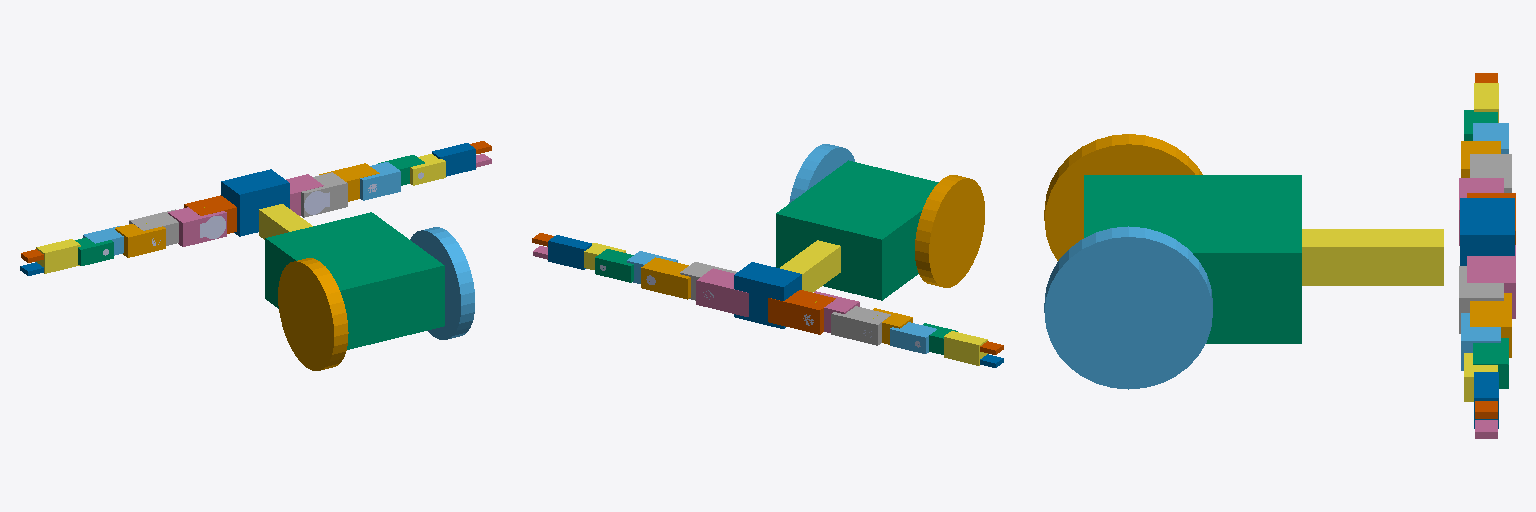
robot.urdf — Krang:
<?xml version="1.0" ?>
<!-- @file Krang.urdf -->
<!-- @author [author] -->
<!-- @modified by [author] -->
<!-- @date July, 2018 -->
<!-- @brief This file contains the .urdf definition for Krang. -->

<!-- NOTE: The collision box values are taken by finding the min and max values of the dae files and then tweaked based on the model to minimize excess white space. -->

<!-- NOTE: The center of mass locations are taken from the MassTable by summing up the -->
<!-- individual part values for the sections (which correspond to nodes here). -->
<!-- TODO: Set the center of mass locations -->
<!-- TODO: Set the correct masses. Note that the dae models have the brackets divided in two and -->
<!-- connected to the middle motor for which we do not have measurements. -->

<robot name="Krang">

	<!-- Links -->

	<link name = "LWheel">
        <inertial>
            <mass value="4.66"/>
            <inertia ixx="0.102019" ixy="2.45462e-05" ixz="0.00713022" iyy="0.0832724" iyz="-0.00131733" izz="0.086493"/>
            <origin xyz="0 0 0"/>
        </inertial>
	    <visual> <geometry> <mesh filename="../scenes/Base/newwheel_super_res.dae" /> </geometry> </visual>
	    <!--collision> <geometry> <mesh filename="../scenes/Base/newwheel_super_res.dae" /> </geometry> </collision-->
        <visual> <origin xyz="0 0 0" rpy="0 1.5708 0"/> <geometry> <cylinder length="0.08" radius="0.275"/> </geometry> </visual>
        <collision> <origin xyz="0 0 0" rpy="0 1.5708 0"/> <geometry> <cylinder length="0.08" radius="0.275"/> </geometry> </collision>
	    <soft_shape>
            <total_mass>4.66</total_mass>
            <geometry> <mesh filename="../scenes/Base/newwheel_super_res.dae" /> </geometry>
	    	<kv>500.0</kv>
	    	<ke>0.0</ke>
	    	<damp>5.0</damp>
        </soft_shape>
	</link>

	<link name = "RWheel">
        <inertial>
            <mass value="4.66"/>
            <inertia ixx="0.102019" ixy="2.45462e-05" ixz="0.00713022" iyy="0.0832724" iyz="-0.00131733" izz="0.086493"/>
        <origin xyz="0 0 0"/>
        </inertial>
	    <visual> <geometry> <mesh filename="../scenes/Base/newwheel_super_res.dae" /> </geometry> </visual>
	    <!--collision> <geometry> <mesh filename="../scenes/Base/newwheel_super_res.dae" /> </geometry> </collision-->
        <visual> <origin xyz="0 0 0" rpy="0 1.5708 0"/> <geometry> <cylinder length="0.08" radius="0.275"/> </geometry> </visual>
        <collision> <origin xyz="0 0 0" rpy="0 1.5708 0"/> <geometry> <cylinder length="0.08" radius="0.275"/> </geometry> </collision>
	    <soft_shape>
            <total_mass>4.66</total_mass>
            <geometry> <mesh filename="../scenes/Base/newwheel_super_res.dae" /> </geometry>
	        <kv>500.0</kv>
	        <ke>0.0</ke>
	        <damp>5.0</damp>
        </soft_shape>
	</link>

<!-- Finalized Inertial Parameters for Krang Base, Spine and Bracket -->

	<link name = "Base">
        <inertial>
            <mass value="75.767"/>
            <inertia ixx="2.9427" ixy="0.0001" ixz="0.0037" iyy="2.4034" iyz="-0.0113" izz="1.2335"/>
            <origin xyz="-0.000628 0.001940 0.076721"/>
            <!-- <origin xyz="-0.1 0.1 0.1"/> -->
        </inertial>
		<visual> <geometry> <mesh filename="../scenes/base.dae" /> </geometry> </visual>
		<!--collision> <geometry> <mesh filename="../scenes/base.dae" /> </geometry> </collision-->
		<visual> <origin xyz="0.00225 0.2097395 0.006300"/> <geometry> <box size="0.6 0.71048 0.32860"/> </geometry> </visual>
		<collision> <origin xyz="0.00225 0.2097395 0.006300"/> <geometry> <box size="0.6 0.71048 0.32860"/> </geometry> </collision>
	</link>

	<link name = "Spine">
        <inertial>
            <mass value="14.006"/>
            <inertia ixx="0.5601" ixy="0.0003" ixz="0.1548" iyy="0.53" iyz="-0.006" izz="0.2328"/>
            <origin xyz="-0.051222 0.000345 0.080526"/>
            <!-- <origin xyz="-0.1 0.1 0.1"/> -->
        </inertial>
		<visual> <geometry> <mesh filename="../scenes/spine.dae" /> </geometry> </visual>
		<!--collision> <geometry> <mesh filename="../scenes/spine.dae" /> </geometry> </collision -->
		<visual> <origin xyz="-0.026 0.230000 0.103887"/> <geometry> <box size="0.1340 0.60000 0.14097"/> </geometry> </visual>
		<collision> <origin xyz="-0.026 0.230000 0.103887"/> <geometry> <box size="0.1340 0.60000 0.14097"/> </geometry> </collision>
	</link>

	<link name = "Bracket">
        <inertial>
            <mass value="6.533"/>
            <inertia ixx="0.1003" ixy="0" ixz="0" iyy="0.0214" iyz="0" izz="0.0987"/>
            <origin xyz="0.0 0.076445 -0.005972"/>
            <!-- <origin xyz="-0.1 0.1 0.1"/> -->
        </inertial>
		<visual> <geometry> <mesh filename="../scenes/bracket.dae" /> </geometry> </visual>
		<!--collision> <geometry> <mesh filename="../scenes/bracket.dae" /> </geometry> </collision-->
		<visual> <origin xyz="0.0012875 0.0882 -0.0280530"/> <geometry> <box size="0.2815 0.18 0.22611"/> </geometry> </visual>
		<collision> <origin xyz="0.0012875 0.0882 -0.0280530"/> <geometry> <box size="0.2815 0.18 0.22611"/> </geometry> </collision>
	</link>

	<link name = "L1">
	    <inertial>
	        <mass value="7.35"/>
	        <inertia ixx="0.0381" ixy="0.0104" ixz="0" iyy="0.0187" iyz="0" izz="0.0430"/>
	        <origin xyz="0.0217 -0.0691 0"/>
	    </inertial>
	    <visual> <geometry> <mesh filename="../scenes/Schunk/L1.dae" /> </geometry> </visual>
	    <!--collision> <geometry> <mesh filename="../scenes/Schunk/L1.dae" /> </geometry> </collision-->
	    <visual> <origin xyz="0.015 -0.080866 0.0"/> <geometry> <box size="0.16 0.29367 0.13188"/> </geometry> </visual>
        <collision> <origin xyz="0.015 -0.080866 0.0"/> <geometry> <box size="0.16 0.29367 0.13188"/> </geometry> </collision>
	</link>

	<link name = "L2">
        <inertial>
            <mass value="6.1405"/>
            <!-- <inertia ixx="0.0504" ixy="0.0006" ixz="0" iyy="0.0178" iyz="0" izz="0.0579"/> -->
	        <inertia ixx="0.0320" ixy="0.0097" ixz="0" iyy="0.0134" iyz="0" izz="0.0350"/>
            <origin xyz="0.0269 -0.0548 0"/>
        </inertial>
		<visual> <geometry> <mesh filename="../scenes/Schunk/L2.dae" /> </geometry> </visual>
		<!--collision> <geometry> <mesh filename="../scenes/Schunk/L2.dae" /> </geometry> </collision-->
		<visual> <origin xyz="0.017042 -0.058309 0.0"/> <geometry> <box size="0.14591 0.24658 0.13"/> </geometry> </visual>
		<collision> <origin xyz="0.017042 -0.058309 0.0"/> <geometry> <box size="0.14591 0.24658 0.13"/> </geometry> </collision>
	</link>

	<link name = "L3">
        <inertial>
            <mass value="4.531"/>
            <!-- <inertia ixx="0.0354" ixy="-0.0003" ixz="0" iyy="0.01" iyz="0" izz="0.0394"/> -->
            <inertia ixx="0.0180" ixy="0.005" ixz="0" iyy="0.0084" iyz="0" izz="0.0204"/>
	        <origin xyz="0.0188 -0.00619 0"/>
        </inertial>
		<visual> <geometry> <mesh filename="../scenes/Schunk/L3.dae" /> </geometry> </visual>
		<!--collision> <geometry> <mesh filename="../scenes/Schunk/L3.dae" /> </geometry> </collision-->
		<visual> <origin xyz="0.014000 -0.075113 0.0"/> <geometry> <box size="0.13800 0.26217 0.11189"/> </geometry> </visual>
		<collision> <origin xyz="0.014000 -0.075113 0.0"/> <geometry> <box size="0.13800 0.26217 0.11189"/> </geometry> </collision>
	</link>

	<link name = "L4">
        <inertial>
            <mass value="3.2245"/>
            <!-- <inertia ixx="0.0209" ixy="0.0003" ixz="0" iyy="0.0067" iyz="0" izz="0.0239"/> -->
            <inertia ixx="0.0133" ixy="0.004" ixz="0" iyy="0.0049" iyz="0" izz="0.0145"/>
	        <origin xyz="0.0238 -0.0484 0"/>
        </inertial>
		<visual> <geometry> <mesh filename="../scenes/Schunk/L4.dae" /> </geometry> </visual>
		<!--collision> <geometry> <mesh filename="../scenes/Schunk/L4.dae" /> </geometry> </collision-->
		<visual> <origin xyz="0.018200 -0.052050 0.0"/> <geometry> <box size="0.12960 0.2141 0.11"/> </geometry> </visual>
		<collision> <origin xyz="0.018200 -0.052050 0.0"/> <geometry> <box size="0.12960 0.2141 0.11"/> </geometry> </collision>
	</link>

	<link name = "L5">
        <inertial>
            <mass value="2.318"/>
            <!-- <inertia ixx="0.012" ixy="-0.0002" ixz="0" iyy="0.0035" iyz="0" izz="0.0135"/> -->
            <inertia ixx="0.0063" ixy="0.0017" ixz="0" iyy="0.0029" iyz="0" izz="0.0072"/>
	        <origin xyz="0.0166 -0.0494 0"/>
        </inertial>
		<visual> <geometry> <mesh filename="../scenes/Schunk/L5.dae" /> </geometry> </visual>
		<!--collision> <geometry> <mesh filename="../scenes/Schunk/L5.dae" /> </geometry> </collision-->
        <visual> <origin xyz="0.0145115 -0.0571105 0.0000425"/> <geometry> <box size="0.117977 0.204179 0.089915"/> </geometry> </visual>
        <collision> <origin xyz="0.0145115 -0.0571105 0.0000425"/> <geometry> <box size="0.117977 0.204179 0.089915"/> </geometry> </collision>
	</link>

	<link name = "L6">
        <inertial>
            <mass value="2.318"/>
            <!-- <inertia ixx="0.0104" ixy="0" ixz="0" iyy="0.0041" iyz="0" izz="0.0125"/> -->
            <inertia ixx="0.0071" ixy="0.0020" ixz="0" iyy="0.0029" iyz="0" izz="0.008"/>
	        <origin xyz="0.0232 -0.0377 0"/>
        </inertial>
		<visual> <geometry> <mesh filename="../scenes/Schunk/L6.dae" /> </geometry> </visual>
		<!--collision> <geometry> <mesh filename="../scenes/Schunk/L6.dae" /> </geometry> </collision-->
		<visual> <origin xyz="0.0175015 -0.0481615 0.0"/> <geometry> <box size="0.111977 0.185277 0.089"/> </geometry> </visual>
		<collision> <origin xyz="0.0175015 -0.0481615 0.0"/> <geometry> <box size="0.111977 0.185277 0.089"/> </geometry> </collision>
	</link>

	<link name = "lGripper">
	    <inertial>
		    <mass value="2.3838"/>
		    <inertia ixx="0.0104" ixy="0" ixz="0" iyy="0.0108" iyz="0" izz="0.0027"/>
		    <!-- <inertia ixx="0.0126" ixy="0" ixz="0" iyy="0.013" iyz="0" izz="0.0027"/> -->
			<!-- An addition of 4.05 cms from the end of Schunk gripper to space between two halves of ft -->
	        <origin xyz="0 0 0.1055"/>
	    </inertial>
		<visual> <geometry> <mesh filename="../scenes/Schunk/L7.dae" /> </geometry> <!--origin rpy="0 0 1.0"/--> </visual>
        <!-- origin on below line is orginally commented out -->
		<!--collision> <geometry> <mesh filename="../scenes/Schunk/L7.dae" /> </geometry> <origin rpy="0 0 1.0"/> </collision-->
		<visual> <origin xyz="0.0 -0.0 0.02615" rpy="0.0 0.0 1.5708"/> <geometry> <box size="0.08 0.112 0.2025"/> </geometry> </visual>
		<collision> <origin xyz="0.0 -0.0 0.02615" rpy="0.0 0.0 1.5708"/> <geometry> <box size="0.08 0.112 0.2025"/> </geometry> </collision>
	</link>

	<link name = "lgPlate1">
        <inertial>
            <inertia ixx="0.102019" ixy="2.45462e-05" ixz="0.00713022" iyy="0.0832724" iyz="-0.00131733" izz="0.086493"/>
            <mass value="0.0001"/>
        </inertial>
		<visual> <geometry> <mesh filename="../scenes/Schunk/gripperPlate.dae" /> </geometry> </visual>
		<!--collision> <geometry> <mesh filename="../scenes/Schunk/gripperPlate.dae" /> </geometry> </collision-->
		<visual> <origin xyz="0.01 0.0 -0.04615"/> <geometry> <box size="0.025 0.075 0.09"/> </geometry> </visual>
		<collision> <origin xyz="0.01 0.0 -0.04615"/> <geometry> <box size="0.025 0.075 0.09"/> </geometry> </collision>
	</link>

	<link name = "lgPlate2">
        <inertial>
            <inertia ixx="0.102019" ixy="2.45462e-05" ixz="0.00713022" iyy="0.0832724" iyz="-0.00131733" izz="0.086493"/>
            <mass value="0.0001"/>
        </inertial>
		<visual> <geometry> <mesh filename="../scenes/Schunk/gripperPlate.dae" /> </geometry> </visual>
		<!--collision> <geometry> <mesh filename="../scenes/Schunk/gripperPlate.dae" /> </geometry> </collision-->
		<visual> <origin xyz="0.01 0.0 -0.04615"/> <geometry> <box size="0.025 0.075 0.09"/> </geometry> </visual>
		<collision> <origin xyz="0.01 0.0 -0.04615"/> <geometry> <box size="0.025 0.075 0.09"/> </geometry> </collision>
	</link>

	<link name = "R1">
        <inertial>
	        <mass value="7.35"/>
	        <inertia ixx="0.0381" ixy="0.0104" ixz="0" iyy="0.0187" iyz="0" izz="0.0430"/>
	        <origin xyz="0.0217 -0.0691 0"/>
        </inertial>
		<visual> <geometry> <mesh filename="../scenes/Schunk/L1.dae" /> </geometry> </visual>
		<!--collision> <geometry> <mesh filename="../scenes/Schunk/L1.dae" /> </geometry> </collision-->
		<visual> <origin xyz="0.015 -0.080866 0.0"/> <geometry> <box size="0.16 0.29367 0.13188"/> </geometry> </visual>
		<collision> <origin xyz="0.015 -0.080866 0.0"/> <geometry> <box size="0.16 0.29367 0.13188"/> </geometry> </collision>
	</link>

	<link name = "R2">
        <inertial>
      	    <mass value="6.1405"/>
      	    <inertia ixx="0.0320" ixy="0.0097" ixz="0" iyy="0.0134" iyz="0" izz="0.0350"/>
	        <origin xyz="0.0269 -0.0548 0"/>
        </inertial>
		<visual> <geometry> <mesh filename="../scenes/Schunk/L2.dae" /> </geometry> </visual>
		<!--collision> <geometry> <mesh filename="../scenes/Schunk/L2.dae" /> </geometry> </collision-->
        <visual> <origin xyz="0.017042 -0.058309 0.0"/> <geometry> <box size="0.14591 0.24658 0.13"/> </geometry> </visual>
		<collision> <origin xyz="0.017042 -0.058309 0.0"/> <geometry> <box size="0.14591 0.24658 0.13"/> </geometry> </collision>
	</link>

	<link name = "R3">
        <inertial>
      	    <mass value="4.531"/>
      	    <inertia ixx="0.0180" ixy="0.005" ixz="0" iyy="0.0084" iyz="0" izz="0.0204"/>
	    <origin xyz="0.0188 -0.00619 0"/>
        </inertial>
		<visual> <geometry> <mesh filename="../scenes/Schunk/L3.dae" /> </geometry> </visual>
		<!--collision> <geometry> <mesh filename="../scenes/Schunk/L3.dae" /> </geometry> </collision-->
		<visual> <origin xyz="0.014000 -0.075113 0.0"/> <geometry> <box size="0.13800 0.26217 0.11189"/> </geometry> </visual>
		<collision> <origin xyz="0.014000 -0.075113 0.0"/> <geometry> <box size="0.13800 0.26217 0.11189"/> </geometry> </collision>
	</link>

	<link name = "R4">
        <inertial>
      	    <mass value="3.2245"/>
      	    <inertia ixx="0.0133" ixy="0.004" ixz="0" iyy="0.0049" iyz="0" izz="0.0145"/>
	        <origin xyz="0.0238 -0.0484 0"/>
        </inertial>
		<visual> <geometry> <mesh filename="../scenes/Schunk/L4.dae" /> </geometry> </visual>
		<!--collision> <geometry> <mesh filename="../scenes/Schunk/L4.dae" /> </geometry> </collision-->
        <visual> <origin xyz="0.018200 -0.052050 0.0"/> <geometry> <box size="0.12960 0.2141 0.11"/> </geometry> </visual>
		<collision> <origin xyz="0.018200 -0.052050 0.0"/> <geometry> <box size="0.12960 0.2141 0.11"/> </geometry> </collision>
	</link>

	<link name = "R5">
        <inertial>
      	    <mass value="2.318"/>
      	    <inertia ixx="0.0063" ixy="0.0017" ixz="0" iyy="0.0029" iyz="0" izz="0.0072"/>
	        <origin xyz="0.0166 -0.0494 0"/>
        </inertial>
		<visual> <geometry> <mesh filename="../scenes/Schunk/L5.dae" /> </geometry> </visual>
		<!--collision> <geometry> <mesh filename="../scenes/Schunk/L5.dae" /> </geometry> </collision-->
        <visual> <origin xyz="0.0145115 -0.0571105 0.0000425"/> <geometry> <box size="0.117977 0.204179 0.089915"/> </geometry> </visual>
		<collision> <origin xyz="0.0145115 -0.0571105 0.0000425"/> <geometry> <box size="0.117977 0.204179 0.089915"/> </geometry> </collision>
	</link>

	<link name = "R6">
        <inertial>
      	    <mass value="2.318"/>
      	    <inertia ixx="0.0071" ixy="0.0020" ixz="0" iyy="0.0029" iyz="0" izz="0.008"/>
	        <origin xyz="0.0232 -0.0377 0"/>
        </inertial>
		<visual> <geometry> <mesh filename="../scenes/Schunk/L6.dae" /> </geometry> </visual>
		<!--collision> <geometry> <mesh filename="../scenes/Schunk/L6.dae" /> </geometry> </collision-->
		<visual> <origin xyz="0.0175015 -0.0481615 0.0"/> <geometry> <box size="0.111977 0.185277 0.089"/> </geometry> </visual>
		<collision> <origin xyz="0.0175015 -0.0481615 0.0"/> <geometry> <box size="0.111977 0.185277 0.089"/> </geometry> </collision>
	</link>

	<link name = "rGripper">
        <inertial>
     	    <mass value="2.3838"/>
		    <inertia ixx="0.0104" ixy="0" ixz="0" iyy="0.0108" iyz="0" izz="0.0027"/>
			<!-- An addition of 4.05 cms from the end of Schunk gripper to space between two halves of ft -->
            <origin xyz="0 0 0.1055"/>
        </inertial>
		<visual> <geometry> <mesh filename="../scenes/Schunk/L7.dae" /> </geometry> </visual>
		<!--collision> <geometry> <mesh filename="../scenes/Schunk/L7.dae" /> </geometry> </collision-->
		<visual> <origin xyz="0.0 -0.0 0.02615" rpy="0.0 0.0 1.5708"/> <geometry> <box size="0.08 0.112 0.2025"/> </geometry> </visual>
		<collision> <origin xyz="0.0 -0.0 0.02615" rpy="0.0 0.0 1.5708"/> <geometry> <box size="0.08 0.112 0.2025"/> </geometry> </collision>
	</link>

	<link name = "rgPlate1">
        <inertial>
            <inertia ixx="0.102019" ixy="2.45462e-05" ixz="0.00713022" iyy="0.0832724" iyz="-0.00131733" izz="0.086493"/>
            <mass value="0.0001"/>
        </inertial>
		<visual> <geometry> <mesh filename="../scenes/Schunk/gripperPlate.dae" /> </geometry> </visual>
		<!--collision> <geometry> <mesh filename="../scenes/Schunk/gripperPlate.dae" /> </geometry> </collision-->
		<visual> <origin xyz="0.01 0.0 -0.04615"/> <geometry> <box size="0.025 0.075 0.09"/> </geometry> </visual>
		<collision> <origin xyz="0.01 0.0 -0.04615"/> <geometry> <box size="0.025 0.075 0.09"/> </geometry> </collision>
	</link>

	<link name = "rgPlate2">
        <inertial>
            <inertia ixx="0.102019" ixy="2.45462e-05" ixz="0.00713022" iyy="0.0832724" iyz="-0.00131733" izz="0.086493"/>
            <mass value="0.0001"/>
        </inertial>
		<visual> <geometry> <mesh filename="../scenes/Schunk/gripperPlate.dae" /> </geometry> </visual>
		<!--collision> <geometry> <mesh filename="../scenes/Schunk/gripperPlate.dae" /> </geometry> </collision-->
		<visual> <origin xyz="0.01 0.0 -0.04615"/> <geometry> <box size="0.025 0.075 0.09"/> </geometry> </visual>
		<collision> <origin xyz="0.01 0.0 -0.04615"/> <geometry> <box size="0.025 0.075 0.09"/> </geometry> </collision>
	</link>


	<!-- ======================================================================================================== -->
	<!-- ============================================ Joints ==================================================== -->
	<!-- ======================================================================================================== -->

	<joint name="JLWheel" type="revolute"> <parent link="Base" /> <child link="LWheel" />
		<origin xyz = "-0.354 0.0 0" rpy="0 0 0" />
		<axis xyz="-1 0 0" /> <limit effort="1000" lower="-3.1416" upper="3.1416" velocity="0.1" />
	</joint>

	<joint name="JRWheel" type="revolute"> <parent link="Base" /> <child link="RWheel" />
		<origin xyz = "0.361 0.0 0" rpy="0 0 0" />
		<axis xyz="-1 0 0" /> <limit effort="1000" lower="-3.1416" upper="3.1416" velocity="0.1" />
	</joint>

	<joint name="JWaist" type="revolute"> <parent link="Base" /> <child link="Spine" />
		<origin xyz = "0.026 0.499 -0.091" rpy="0 0 0" />
		<axis xyz="-1 0 0" /> <limit effort="1000" lower="0" upper="2.7" velocity="0.1" />
	</joint>

	<joint name="JTorso" type="revolute"> <parent link="Spine" /> <child link="Bracket" />
		<origin xyz = "-0.0285 0.584 0.1088" rpy="0 3.1416 0" />
		<axis xyz="0 -1 0" /> <limit effort="1000" lower="-0.8" upper="0.8" velocity="0.1" />
	</joint>

	<!-- =================== Left Arm =================== -->
	<!-- ================================================ -->

	<joint name="LJ1" type="revolute"> <parent link="Bracket" /> <child link="L1" />
		<origin xyz = "0.2823 0.0845 0" rpy="0 3.1416 -1.5708" />
		<axis xyz="0 -1 0" /> <limit effort="1000" lower="-3.1416" upper="3.1416" velocity="0.1" />
	</joint>

	<joint name="LJ2" type="revolute"> <parent link="L1" /> <child link="L2" />
		<origin xyz="0 0.0 0" rpy="3.14 3.14 0" />
		<axis xyz="-1 0 0" /> <limit effort="1000" lower="-2.094" upper="2.094" velocity="0.1" />
	</joint>

	<joint name="LJ3" type="revolute"> <parent link="L2" /> <child link="L3" />
		<origin xyz="0 -0.328 0" rpy="-3.1416 -3.1416 0" />
		<axis xyz="0 -1 0" /> <limit effort="1000" lower="-4.7124" upper="4.7124" velocity="0.1" />
	</joint>

	<joint name="LJ4" type="revolute"> <parent link="L3" /> <child link="L4" />
		<origin xyz="0 0 0" rpy="3.1416 3.1416 0" />
		<axis xyz="-1 0 0" /> <limit effort="1000" lower="-2.094" upper="2.094" velocity="0.1" />
	</joint>

	<joint name="LJ5" type="revolute"> <parent link="L4" /> <child link="L5" />
		<origin xyz="0 -0.2765 0" rpy="3.1416 3.1416 0" />
		<axis xyz="0 -1 0" /> <limit effort="1000" lower="-4.7124" upper="4.7124" velocity="0.1" />
	</joint>

	<joint name="LJ6" type="revolute"> <parent link="L5" /> <child link="L6" />
		<origin xyz="0 0 0" rpy="0 0 3.1416" />
		<axis xyz="-1 0 0" /> <limit effort="1000" lower="-2.094" upper="2.094" velocity="0.1" />
	</joint>

	<!-- For some reason, I had to negate the axis to make sure the motor turns like the others -->
	<joint name="LJFT" type="revolute"> <parent link="L6" /> <child link="lGripper" />
		<origin xyz="0 -0.200 0" rpy="1.5708 4.7124 0" />
		<axis xyz="0 0 -1" /> <limit effort="1000" lower="-4.7124" upper="4.7124" velocity="0.1" />
	</joint>

	<joint name="LMotorPlate1" type="fixed"> <parent link="lGripper" /> <child link="lgPlate1" />
		<origin xyz="-0.045 0.0 0.127" rpy="3.1416 0 0" />
		<axis xyz="1 0 0" /> <limit effort="1000" lower="0.0" upper="0.022" velocity="0.1" />
	</joint>

	<joint name="LMotorPlate2" type="fixed"> <parent link="lGripper" /> <child link="lgPlate2" />
		<origin xyz="0.045 0.000 0.127" rpy="3.1416 0 3.1416" />
		<axis xyz="1 0 0" /> <limit effort="1000" lower="0.0" upper="0.022" velocity="0.1" />
	</joint>

	<!-- =================== Right Arm ================== -->
	<!-- ================================================ -->

	<joint name="RJ1" type="revolute"> <parent link="Bracket" /> <child link="R1" />
		<origin xyz = "-0.2823 0.0845 0" rpy="0 0 1.5708" />
		<axis xyz="0 -1 0" /> <limit effort="1000" lower="-4.7124" upper="4.7124" velocity="0.1" />
	</joint>

	<joint name="RJ2" type="revolute"> <parent link="R1" /> <child link="R2" />
		<origin xyz="0 0.0 0" rpy="3.14 3.14 0" />
		<axis xyz="-1 0 0" /> <limit effort="1000" lower="-2.094" upper="2.094" velocity="0.1" />
	</joint>

	<joint name="RJ3" type="revolute"> <parent link="R2" /> <child link="R3" />
		<origin xyz="0 -0.328 0" rpy="-3.1416 -3.1416 0" />
		<axis xyz="0 -1 0" /> <limit effort="1000" lower="-4.7124" upper="4.7124" velocity="0.1" />
	</joint>

	<joint name="RJ4" type="revolute"> <parent link="R3" /> <child link="R4" />
		<origin xyz="0 0 0" rpy="-3.1416 3.1416 0" />
		<axis xyz="-1 0 0" /> <limit effort="1000" lower="-2.094" upper="2.094" velocity="0.1" />
	</joint>

	<joint name="RJ5" type="revolute"> <parent link="R4" /> <child link="R5" />
		<origin xyz="0 -0.2765 0" rpy="3.1416 3.1416 0" />
		<axis xyz="0 -1 0" /> <limit effort="1000" lower="-4.7124" upper="4.7124" velocity="0.1" />
	</joint>

	<joint name="RJ6" type="revolute"> <parent link="R5" /> <child link="R6" />
		<origin xyz="0 0 0" rpy="0 0 3.1416" />
		<axis xyz="-1 0 0" /> <limit effort="1000" lower="-2.094" upper="2.094" velocity="0.1" />
	</joint>

	<joint name="RJFT" type="revolute"> <parent link="R6" /> <child link="rGripper" />
		<origin xyz="0 -0.200 0" rpy="1.5708 4.7124 0" />
		<axis xyz="0 0 -1" /> <limit effort="1000" lower="-4.7124" upper="4.7124" velocity="0.1" />
	</joint>

	<joint name="RMotorPlate1" type="fixed"> <parent link="rGripper" /> <child link="rgPlate1" />
		<origin xyz="-0.045 0.0 0.127" rpy="3.1416 0 0" />
		<axis xyz="1 0 0" /> <limit effort="1000" lower="0.0" upper="0.022" velocity="0.1" />
	</joint>

	<joint name="RMotorPlate2" type="fixed"> <parent link="rGripper" /> <child link="rgPlate2" />
		<origin xyz="0.045 0.000 0.127" rpy="3.1416 0 3.1416" />
		<axis xyz="1 0 0" /> <limit effort="1000" lower="0.0" upper="0.022" velocity="0.1" />
	</joint>

</robot>

--- What the picture shows (computed from the rendered views, not written in the file) ---
The picture shows the robot from 3 angles, left to right: view 1: azimuth 30°, elevation 25°; view 2: azimuth 150°, elevation 25°; view 3: azimuth 270°, elevation 25°; orthographic projection.
Model Krang with 23 links and 22 joints (18 revolute, 4 fixed), rooted at Base, posed all joints at 0.
Visible links, largest first — view 1: Base, LWheel, RWheel, Bracket, L2, R2, Spine, L4, R4, lGripper, rGripper, L1 (+6 smaller); view 2: Base, LWheel, Bracket, L1, Spine, R1, RWheel, L3, R3, lGripper, rGripper, L5 (+2 smaller); view 3: Base, RWheel, Spine, LWheel, Bracket, R1, R3, L3, R2, R5, R4, rGripper (+6 smaller).
Link boxes in pixels (bbox=[...]): Base: bbox=[265, 212, 444, 349]; LWheel: bbox=[278, 258, 348, 370]; RWheel: bbox=[410, 227, 474, 339]; Bracket: bbox=[221, 169, 289, 236]; L2: bbox=[168, 207, 226, 246]; R2: bbox=[301, 172, 347, 217]; Spine: bbox=[259, 204, 312, 239]; L4: bbox=[115, 224, 165, 257]; R4: bbox=[360, 162, 400, 200]; lGripper: bbox=[36, 239, 80, 273]; rGripper: bbox=[432, 143, 475, 176]; L1: bbox=[184, 195, 236, 233]; Base: bbox=[776, 160, 938, 300]; LWheel: bbox=[915, 175, 984, 287]; Bracket: bbox=[734, 262, 801, 328]; L1: bbox=[768, 290, 835, 334]; Spine: bbox=[780, 240, 840, 292]; R1: bbox=[696, 268, 748, 316]; RWheel: bbox=[789, 144, 854, 203]; L3: bbox=[831, 306, 890, 345]; R3: bbox=[641, 257, 690, 299]; lGripper: bbox=[944, 331, 987, 365]; rGripper: bbox=[548, 235, 591, 269]; L5: bbox=[890, 322, 936, 353]; Base: bbox=[1084, 175, 1301, 343]; RWheel: bbox=[1044, 226, 1212, 389]; Spine: bbox=[1302, 229, 1443, 285]; LWheel: bbox=[1044, 134, 1202, 260]; Bracket: bbox=[1460, 198, 1514, 265]; R1: bbox=[1467, 245, 1515, 318]; R3: bbox=[1470, 293, 1511, 357]; L3: bbox=[1470, 154, 1511, 192]; R2: bbox=[1459, 266, 1503, 333]; R5: bbox=[1473, 338, 1508, 388]; R4: bbox=[1461, 313, 1500, 370]; rGripper: bbox=[1474, 372, 1498, 428].
Size in the robot's own frame: 2.61 by 1.54 by 0.55 metres.
Meshes: 12 distinct files referenced, 20 mesh visuals loaded (9 Collada DAE); not drawn: 1 (reference not matched to a file when rendering), 2 (file found but could not be loaded).